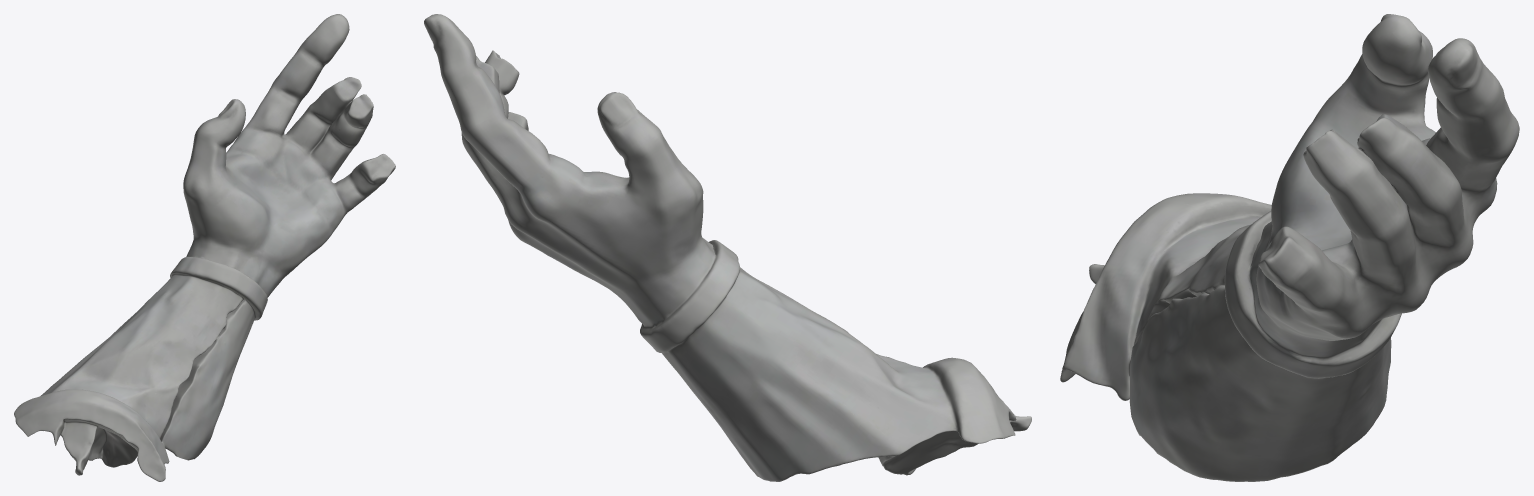
Rendered from brazo_piedra.glb.
3 renders of one model, left to right at view 1: azimuth 30°, elevation 25°; view 2: azimuth 150°, elevation 25°; view 3: azimuth 270°, elevation 25°, orthographic. The views are drawn at different scales.
Parts seen in each view (by area): view 1: tripo_node_97b159af; view 2: tripo_node_97b159af; view 3: tripo_node_97b159af.
Boxes of the visible parts, x1,y1,x2,y2 form: tripo_node_97b159af: (14,14,395,481); tripo_node_97b159af: (424,14,1031,481); tripo_node_97b159af: (1060,14,1519,481).
Bounding box in the file's own units: 99.66 × 81.99 × 54.85.
1 material, 1 textured.
